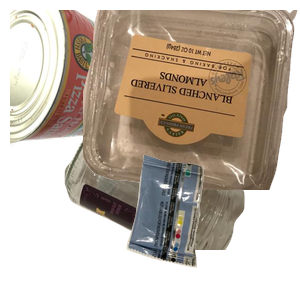glass: (62, 120, 300, 300)
metal: (10, 10, 159, 152)
plastic: (83, 10, 300, 190)
trash: (124, 152, 300, 300)
